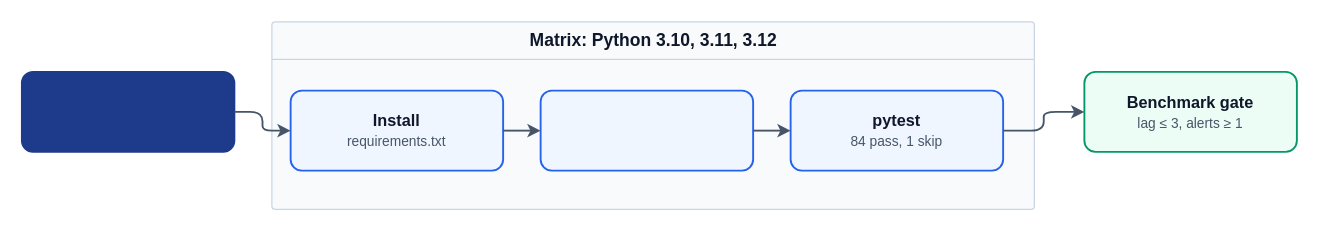
Image size: 1320x231. Some labels were removed from this diagram. The centre of each missing label's shape, as x and y in pixels:
Push / pull request: (x=127, y=111)
Ruff lint pinned 0.17.4: (x=646, y=130)
